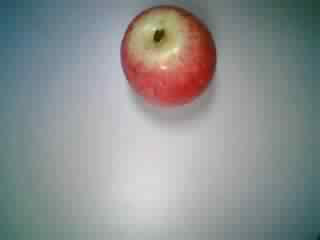apple: (116, 7, 221, 109)
